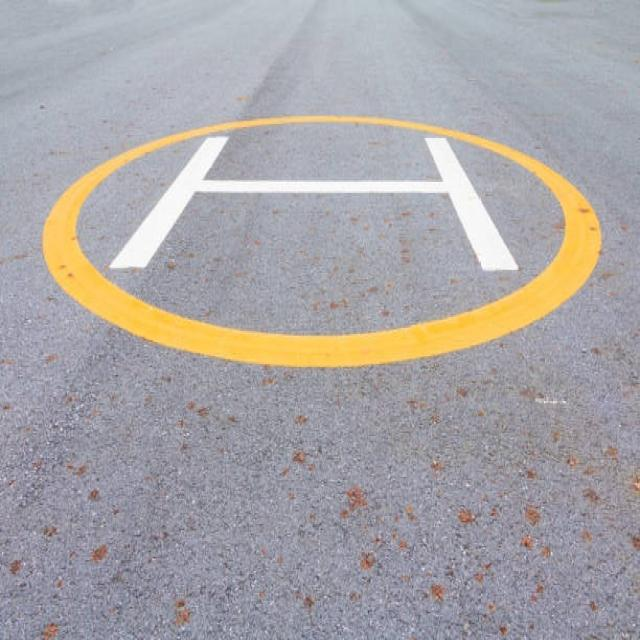helipad: (35, 110, 602, 372)
